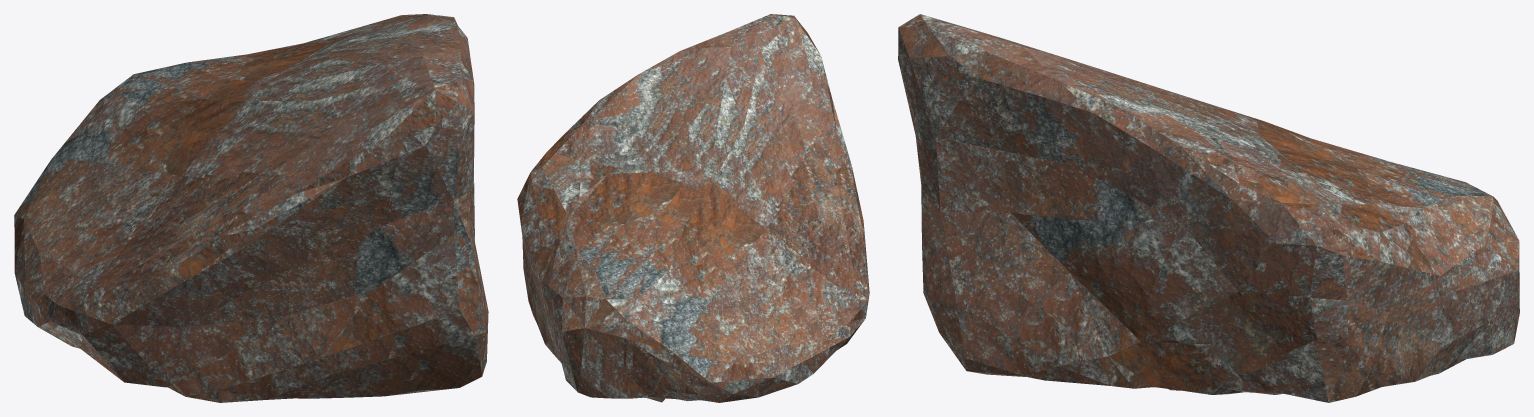
Rendered from rock_6.dae.
The picture shows the model from 3 angles, left to right: view 1: azimuth 30°, elevation 25°; view 2: azimuth 150°, elevation 25°; view 3: azimuth 270°, elevation 25°; orthographic projection. The views are drawn at different scales.
Visible parts, largest first — view 1: instance_0; view 2: instance_0; view 3: instance_0.
Boxes of the visible parts, bbox=[...] form: instance_0: bbox=[14, 14, 488, 402]; instance_0: bbox=[517, 14, 869, 402]; instance_0: bbox=[898, 14, 1519, 402].
Size of the model in its own units: 27.79 by 35.51 by 21.63.
1 material, 1 textured.
